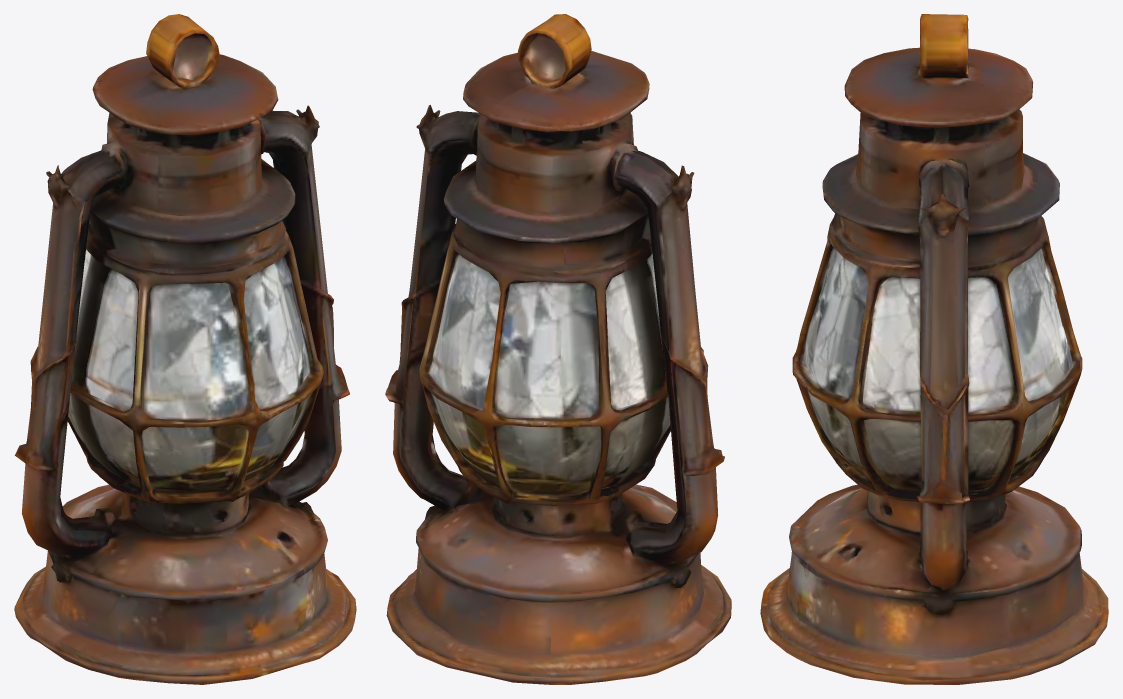
The model's file is 0832_lantern.glb.
3 views of the same model, side by side, from view 1: azimuth 30°, elevation 25°; view 2: azimuth 150°, elevation 25°; view 3: azimuth 270°, elevation 25° (orthographic).
Parts seen in each view (by area): view 1: model; view 2: model; view 3: model.
Boxes of the visible parts, bbox=[...] form: model: bbox=[14, 14, 356, 684]; model: bbox=[385, 14, 731, 684]; model: bbox=[760, 14, 1108, 684].
Bounding box in the file's own units: 1.03 × 1.79 × 0.9435.
1 material, 1 textured.
